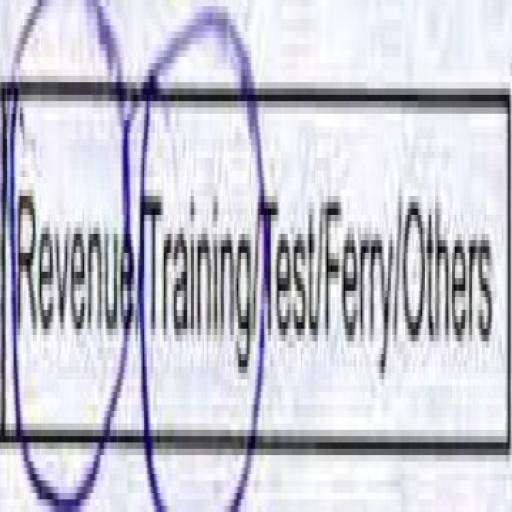check: (0, 0, 131, 512), (137, 0, 256, 512)
